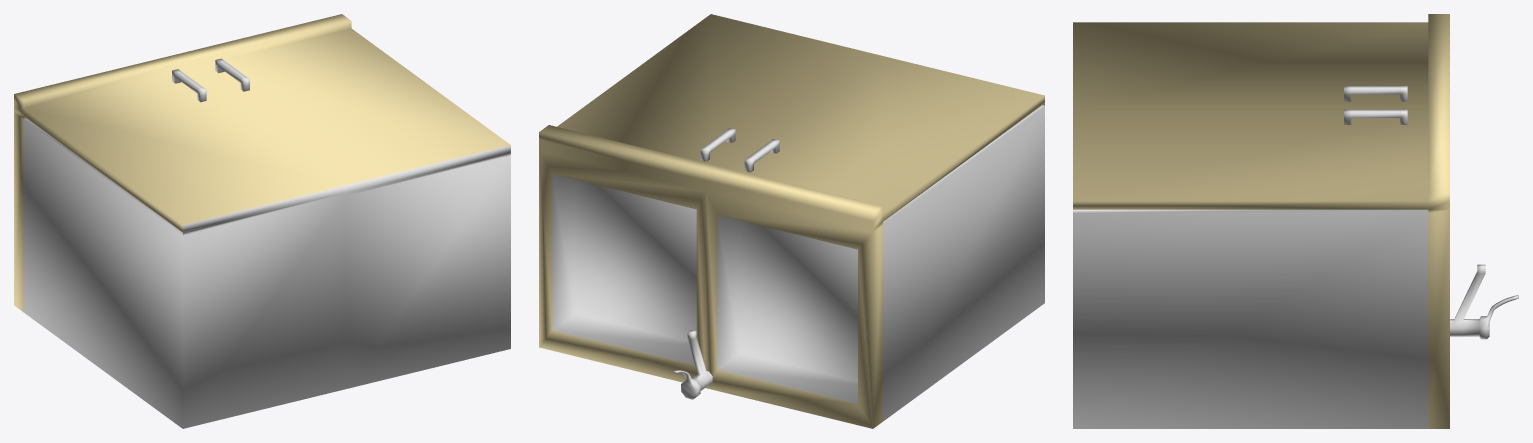
The picture shows the model from 3 angles, left to right: view 1: azimuth 30°, elevation 25°; view 2: azimuth 150°, elevation 25°; view 3: azimuth 270°, elevation 25°; orthographic projection. The views are drawn at different scales.
Parts seen in each view (by area): view 1: Cube; view 2: Cube; view 3: Cube.
Part boxes in pixels (x1,y1,x2,y2): Cube: [14, 14, 510, 428]; Cube: [539, 14, 1044, 428]; Cube: [1073, 14, 1518, 428].
Size of the model in its own units: 101 by 63.23 by 106.
